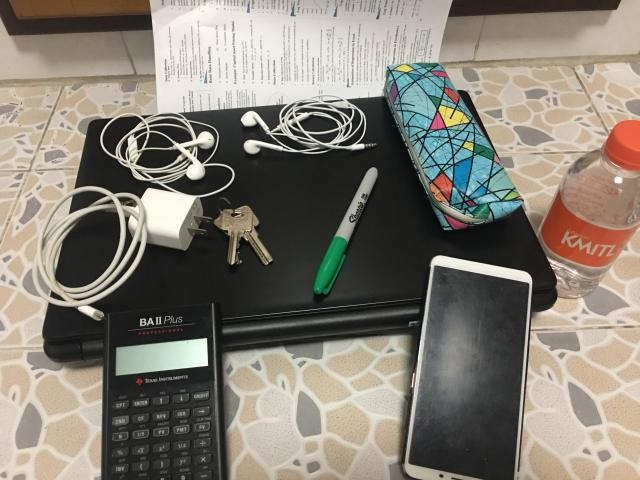Keys: (214, 205, 272, 265)
Mobile phone: (404, 256, 532, 479)
Pen: (314, 168, 378, 295)
bottle: (539, 120, 640, 298)
paper: (150, 0, 450, 112)
wire: (32, 186, 212, 320), (99, 114, 235, 198), (241, 95, 376, 155)
